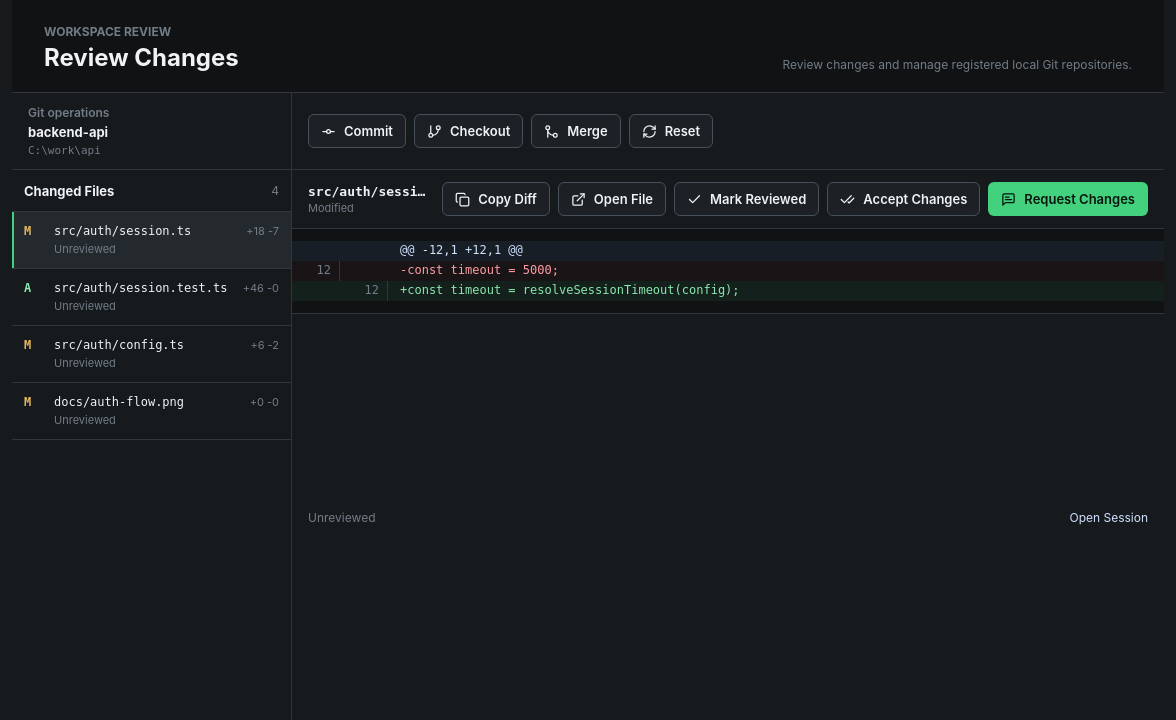
Test: ChangesPage › keeps the user on the Changes page when a merge reports conflicts
This screenshot has width=1176, height=720.
Click the button "Merge". click: (576, 131)
box: 531,114 -> 621,148
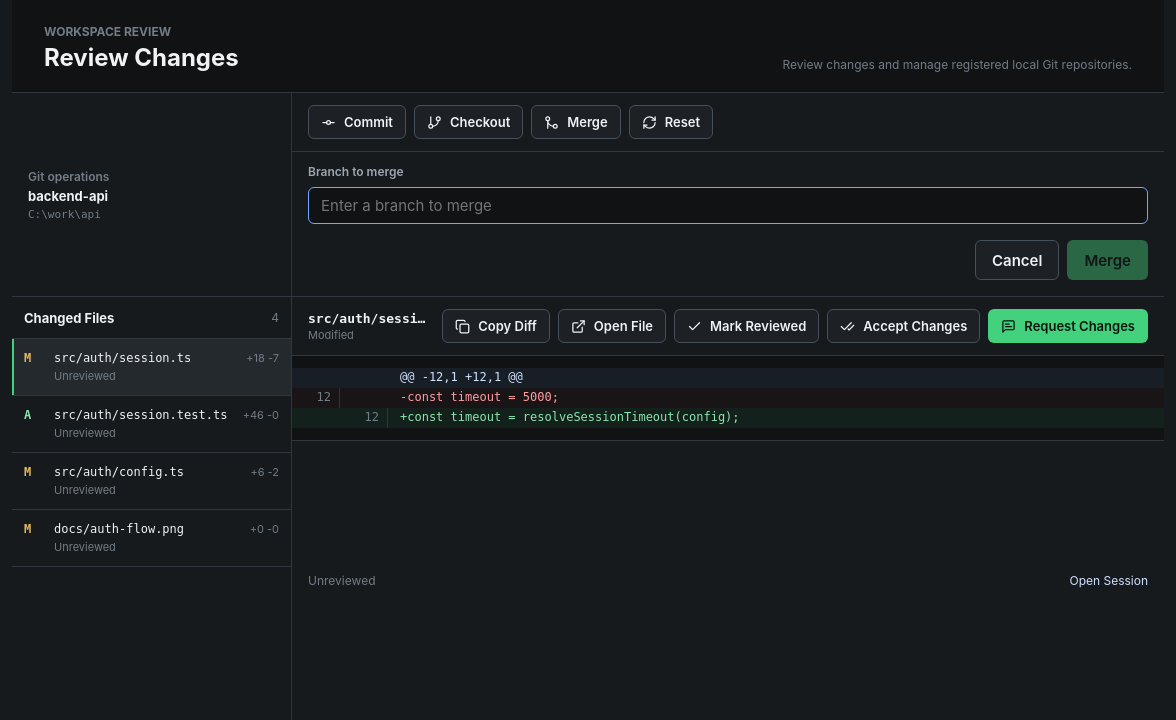
Check: the form labelled "Branch to merge" is shown, box 292,151 -> 1164,296
Type " feature/accessibility " into the field labelled "Branch to merge". click: (728, 206)
box: 308,187 -> 1148,224
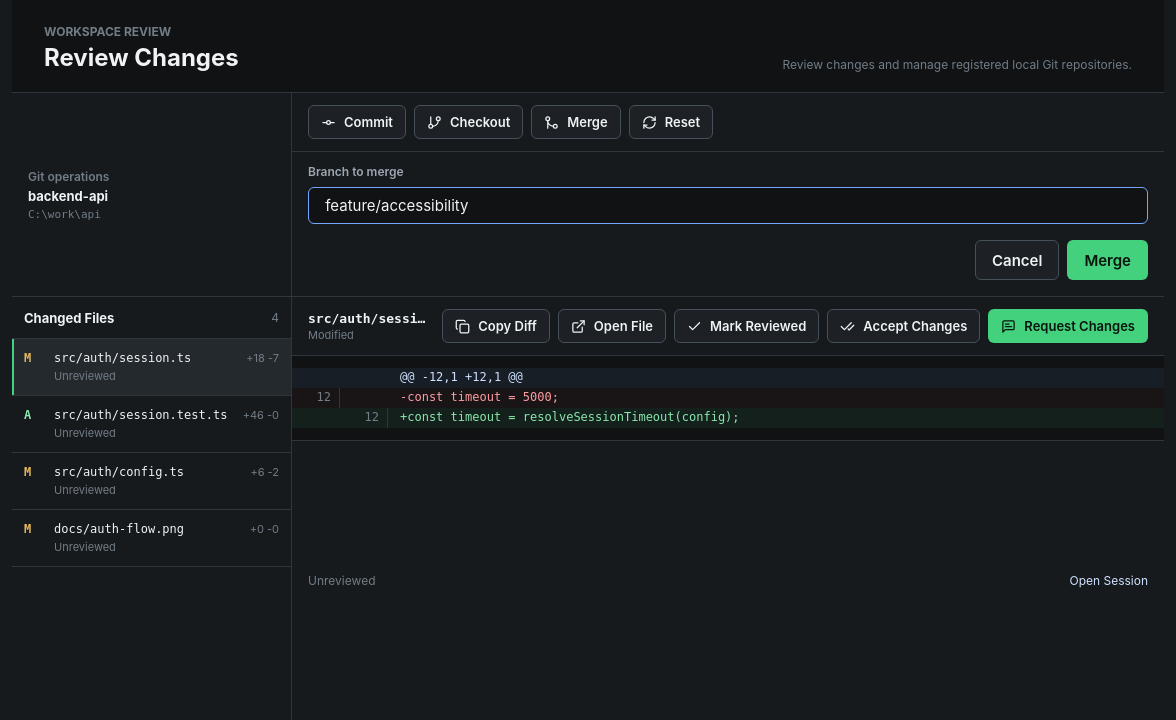
Click the 2nd button "Merge". click: (1108, 260)
box: 1067,240 -> 1148,280
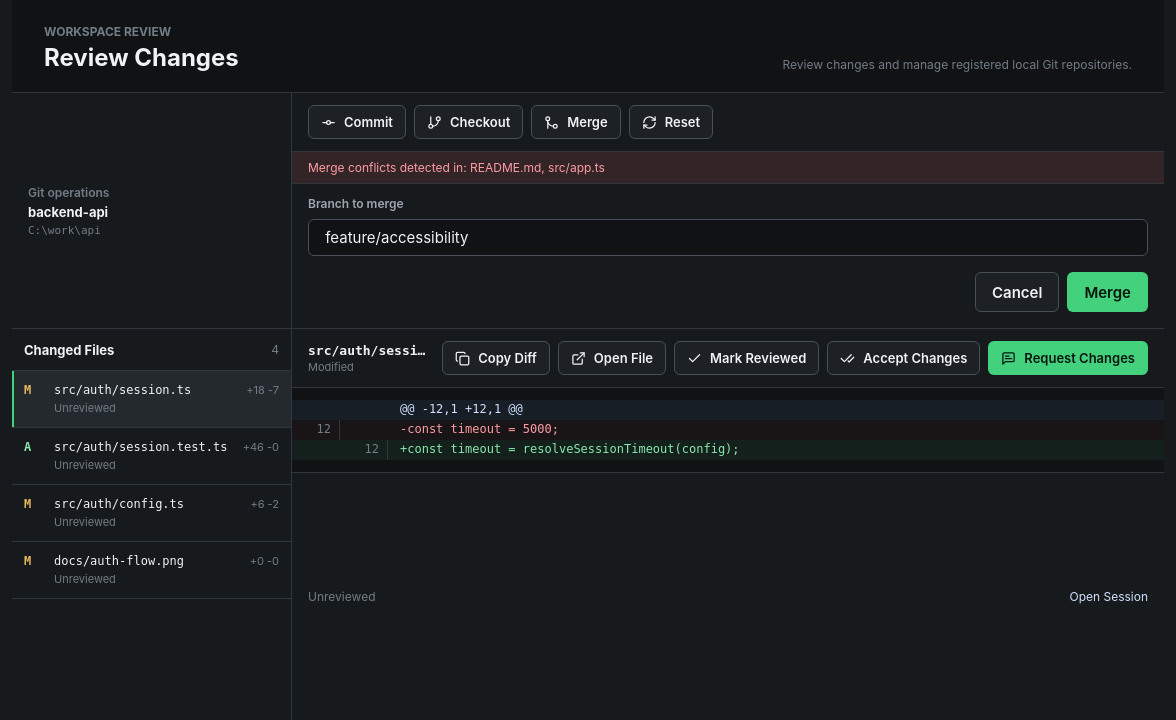
Check: the message reads "Merge conflicts detected in: README.md, src/app.ts", box 308,160 -> 605,175
